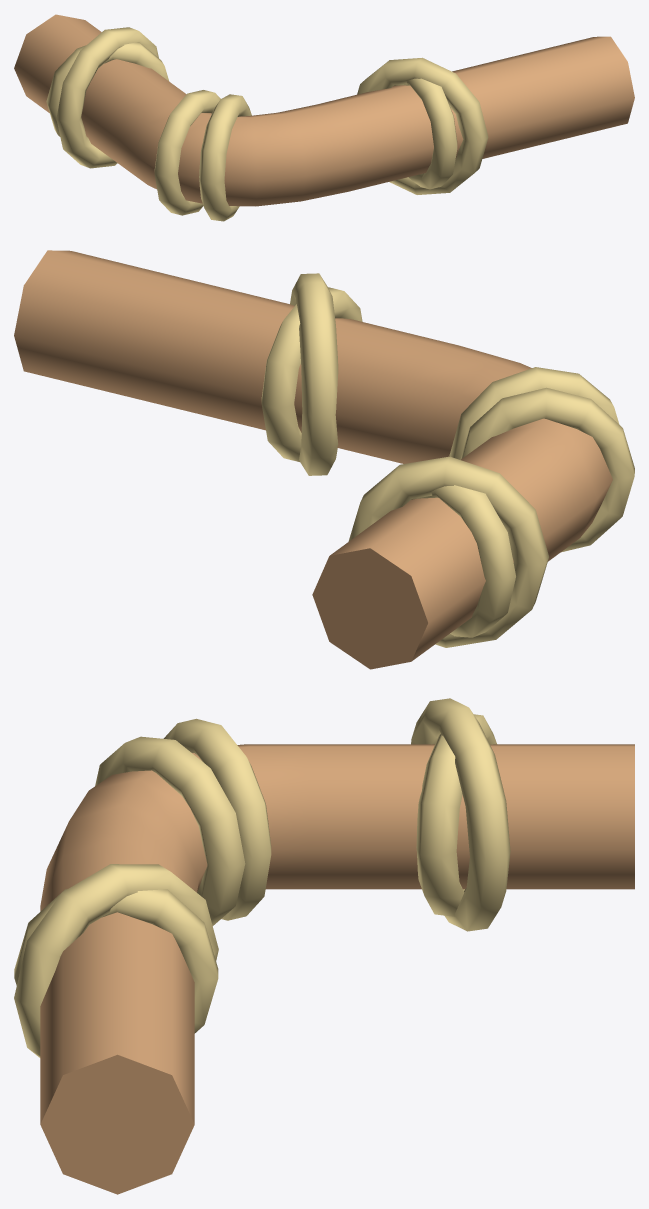
Rendered from Esquina 02.fbx.
3 renders of one model, top to bottom at view 1: azimuth 30°, elevation 25°; view 2: azimuth 150°, elevation 25°; view 3: azimuth 270°, elevation 25°, orthographic. The views are drawn at different scales.
Parts seen in each view (by area): view 1: NurbsPath.002; view 2: NurbsPath.002; view 3: NurbsPath.002.
Boxes of the visible parts, x1,y1,x2,y2 form: NurbsPath.002: (14, 14, 634, 221); NurbsPath.002: (14, 250, 634, 669); NurbsPath.002: (14, 698, 634, 1194).
Bounding box in the file's own units: 197 × 54.53 × 145.
